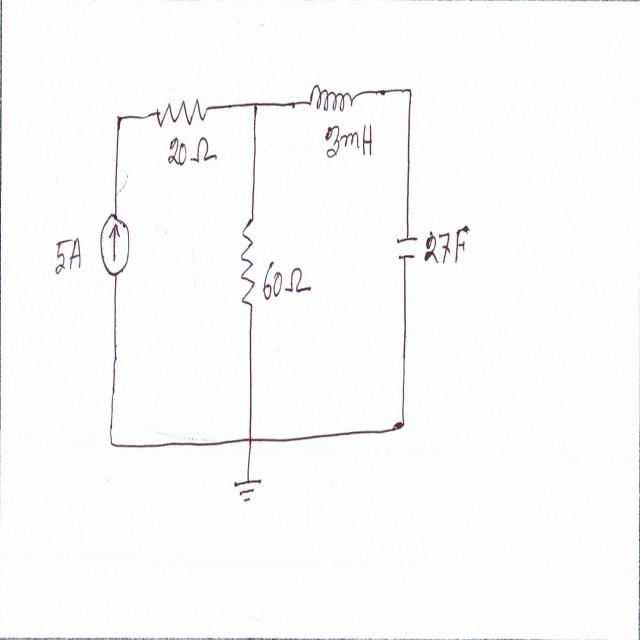capacitor: (393, 233, 419, 268)
current_source: (98, 212, 132, 277)
ground: (230, 476, 266, 510)
inductor: (308, 77, 360, 120)
resistor: (155, 87, 208, 131), (235, 214, 258, 312)
